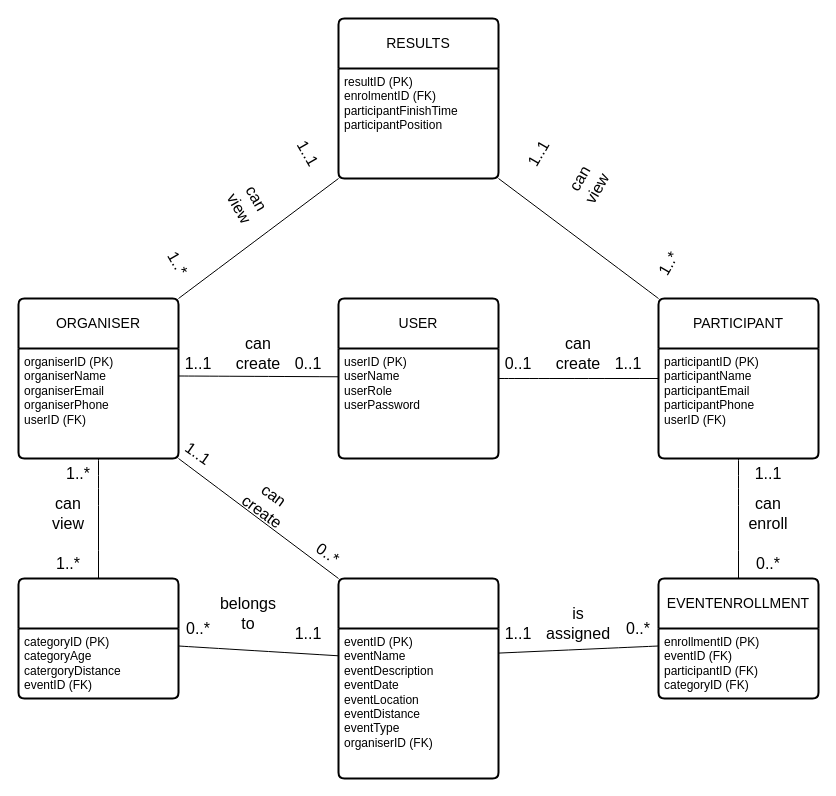
This 836x796 diagram has some shape labels left out. Each missing label, with the box of its shape:
CATEGORIES: (17, 577, 179, 699)
EVENTS: (337, 577, 499, 779)
